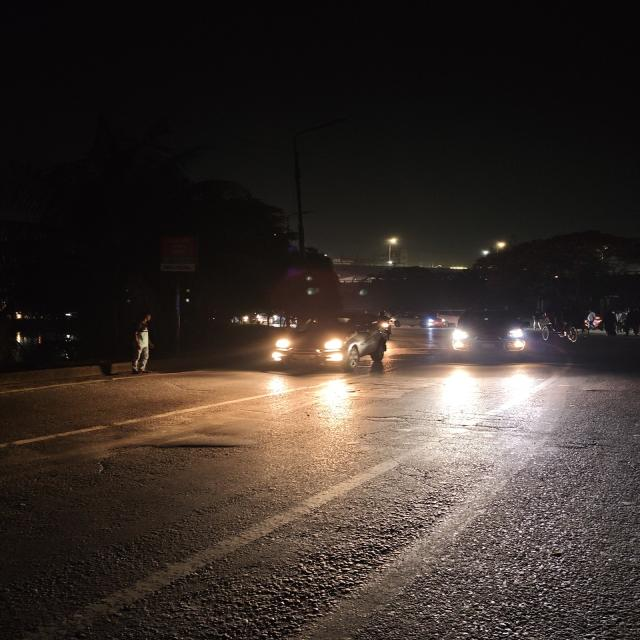car: (264, 310, 401, 378), (441, 306, 534, 366)
pedestrian: (120, 312, 158, 378)
rickshaw: (537, 311, 591, 345)
